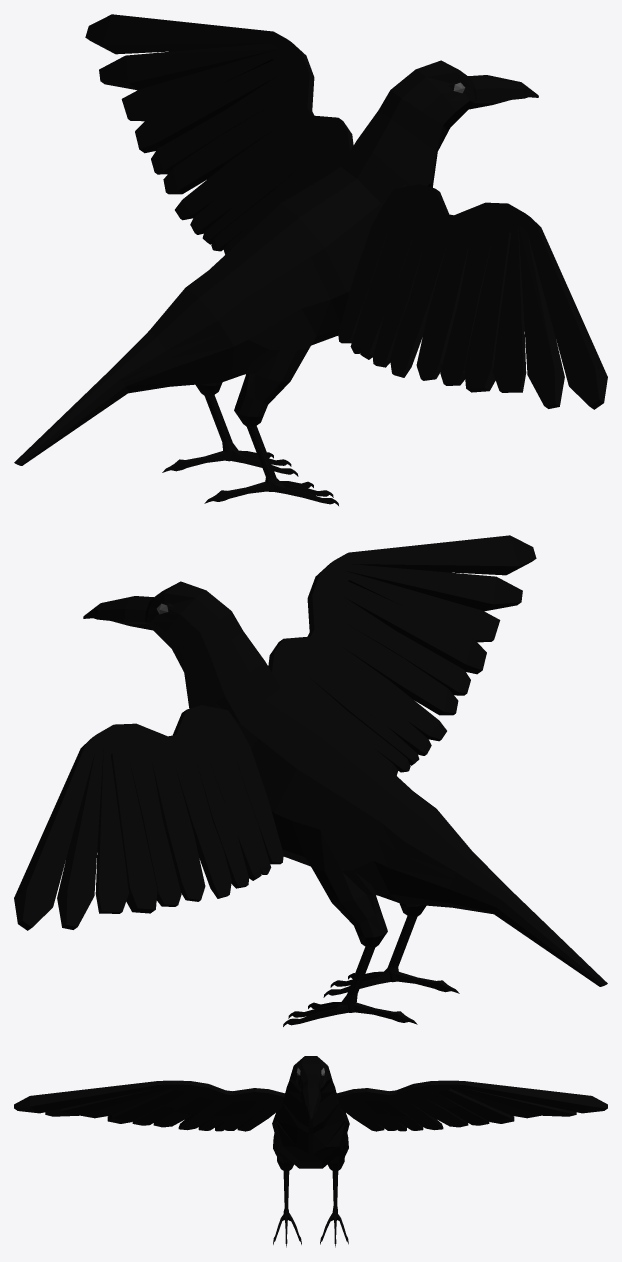
The model's file is Crow.obj.
3 views of the same model, one above another, from view 1: azimuth 30°, elevation 25°; view 2: azimuth 150°, elevation 25°; view 3: azimuth 270°, elevation 25° (orthographic). The views are drawn at different scales.
Parts seen in each view (by area): view 1: Cylinder; view 2: Cylinder; view 3: Cylinder.
Boxes of the visible parts, x1,y1,x2,y2 form: Cylinder: (14,14,607,505); Cylinder: (14,535,607,1026); Cylinder: (14,1056,607,1247).
Size of the model in its own units: 1.49 by 1.04 by 2.51.
